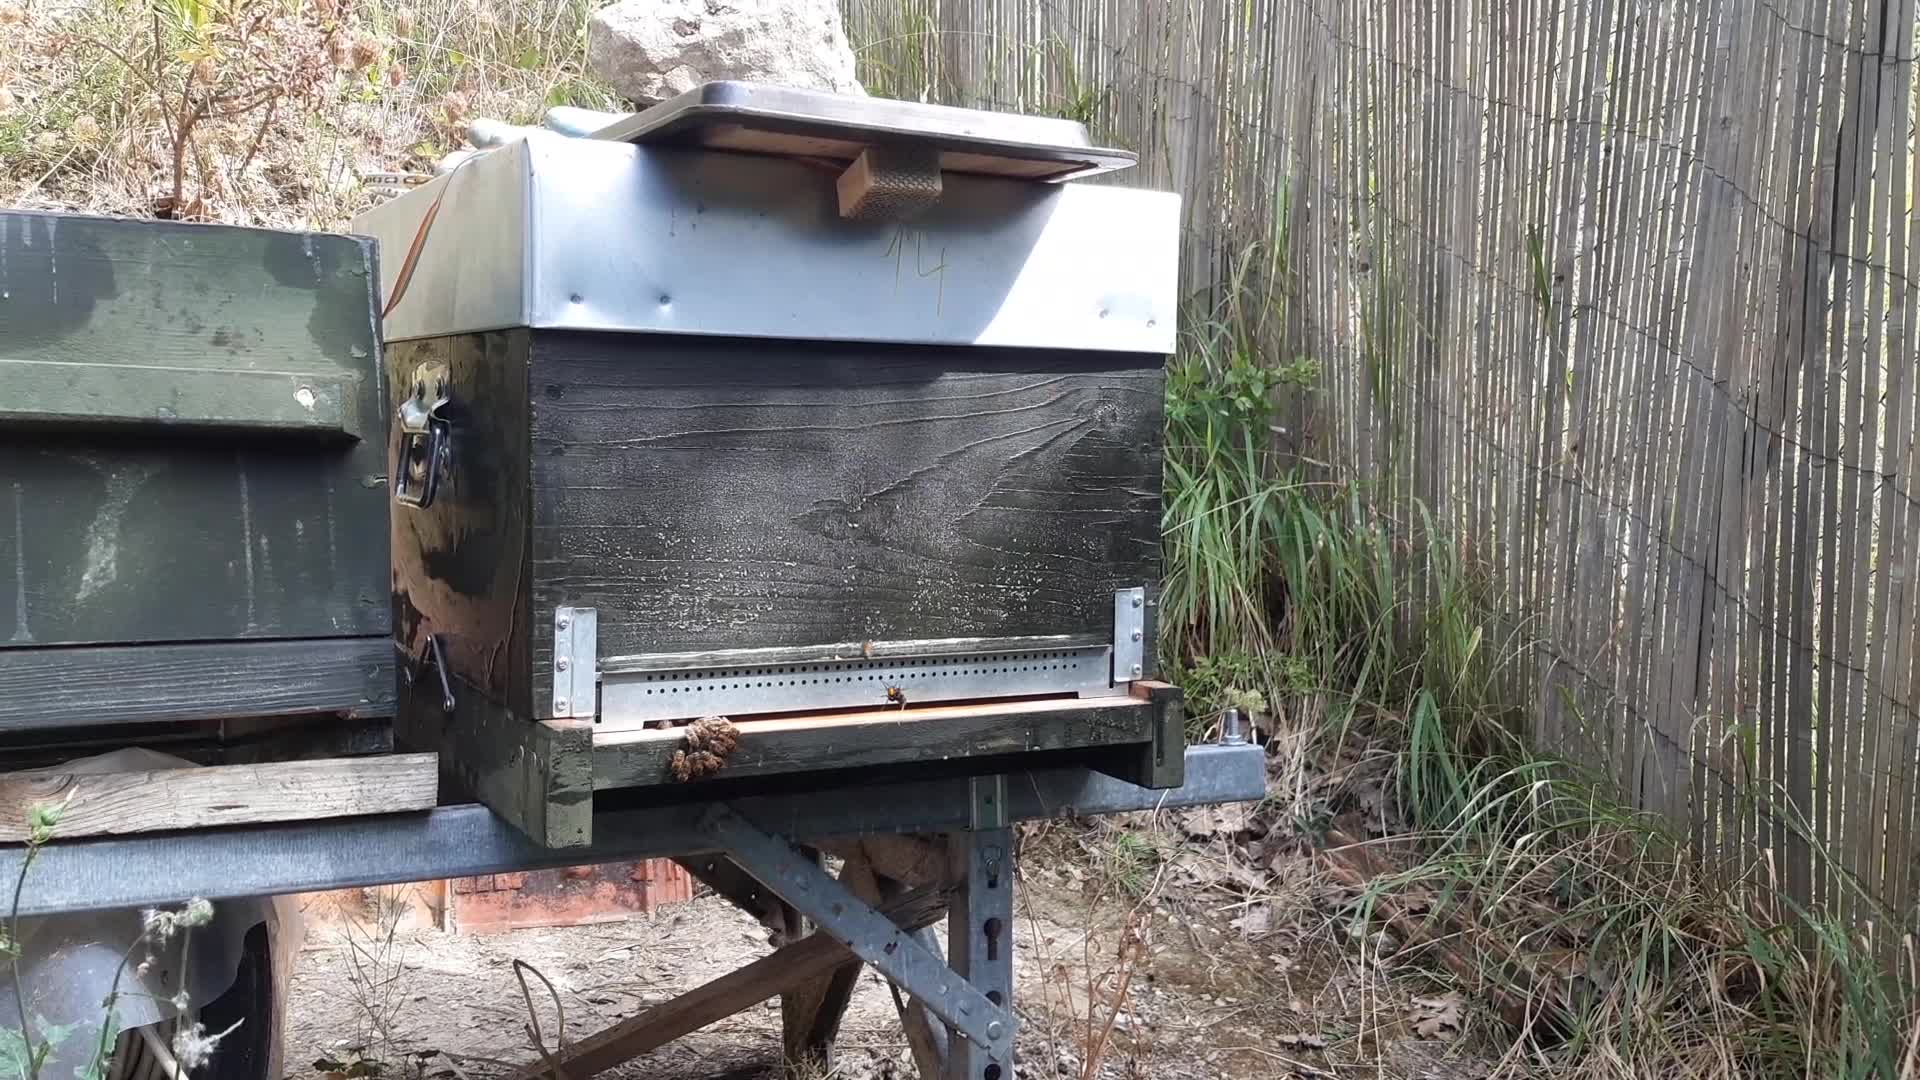bee: (669, 713, 745, 787)
hornet: (876, 683, 914, 716)
